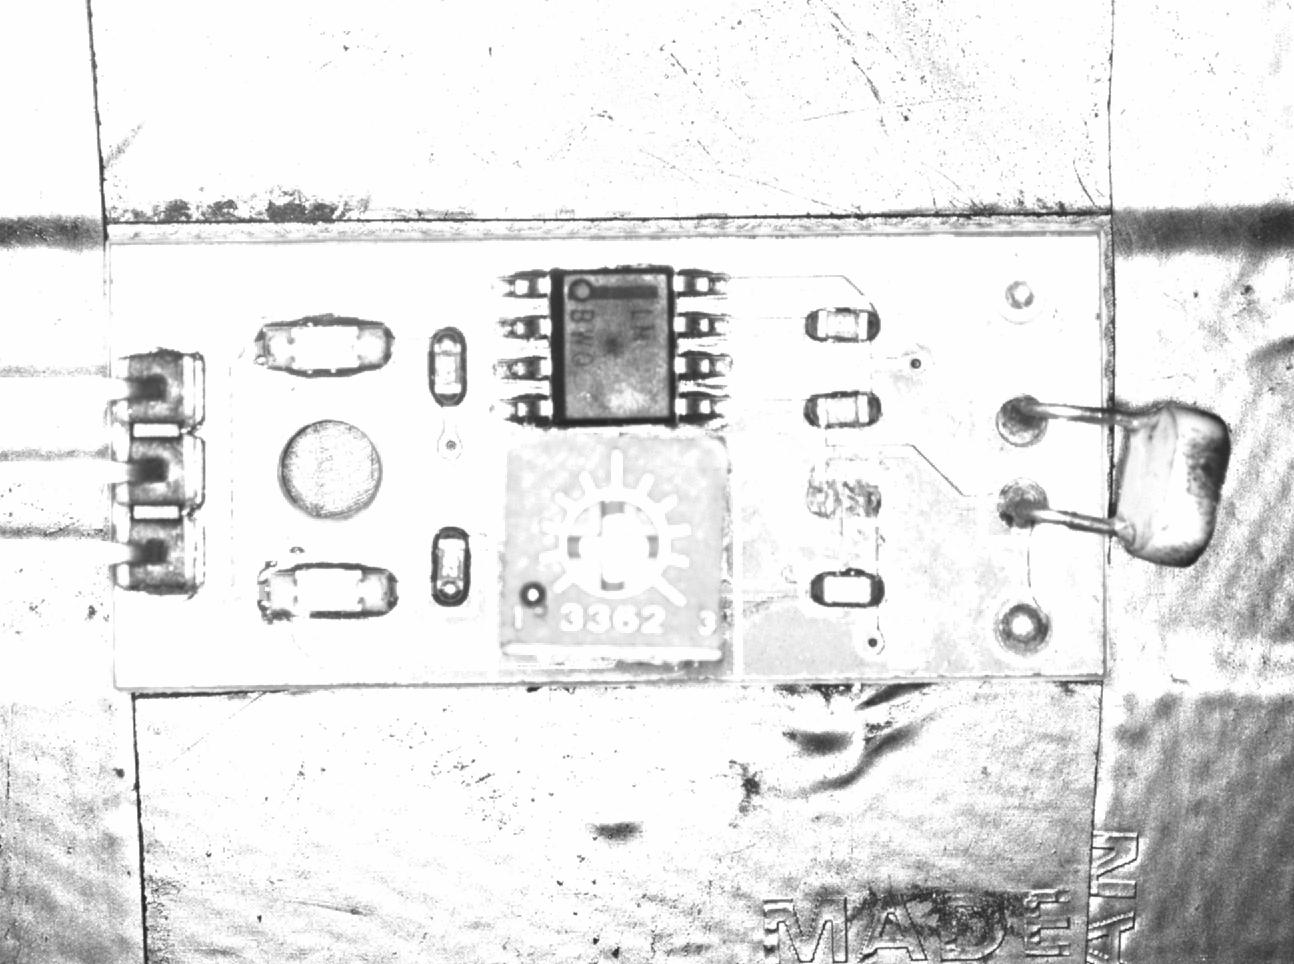miss: (796, 473, 894, 525)
ok: (421, 518, 478, 614), (420, 318, 473, 416), (790, 303, 891, 350), (795, 386, 890, 434), (803, 563, 891, 614)
